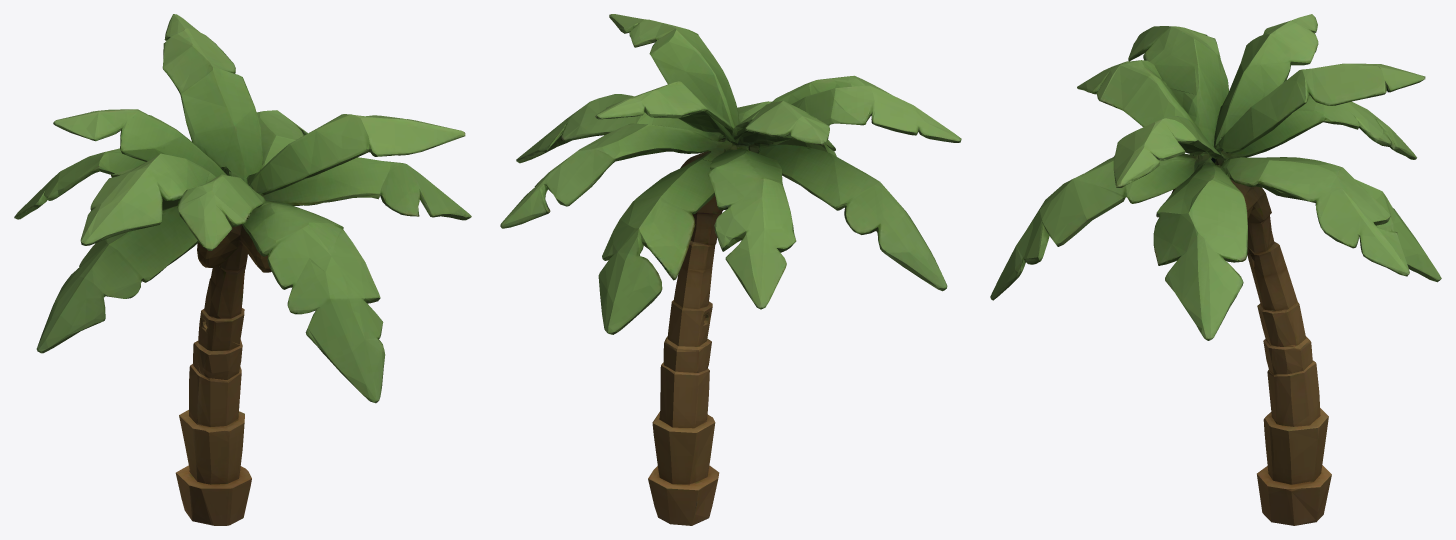
Rendered from young_palm_tree.glb.
3 views of the same model, side by side, from view 1: azimuth 30°, elevation 25°; view 2: azimuth 150°, elevation 25°; view 3: azimuth 270°, elevation 25° (orthographic). The views are drawn at different scales.
Parts seen in each view (by area): view 1: world; view 2: world; view 3: world.
Boxes of the visible parts, box(x1,y1,x2,y2) form: world: box(14, 14, 471, 525); world: box(500, 14, 961, 525); world: box(990, 14, 1441, 525).
Bounding box in the file's own units: 0.9969 × 0.9875 × 0.8901.
Materials: 1 (1 with a texture image).
